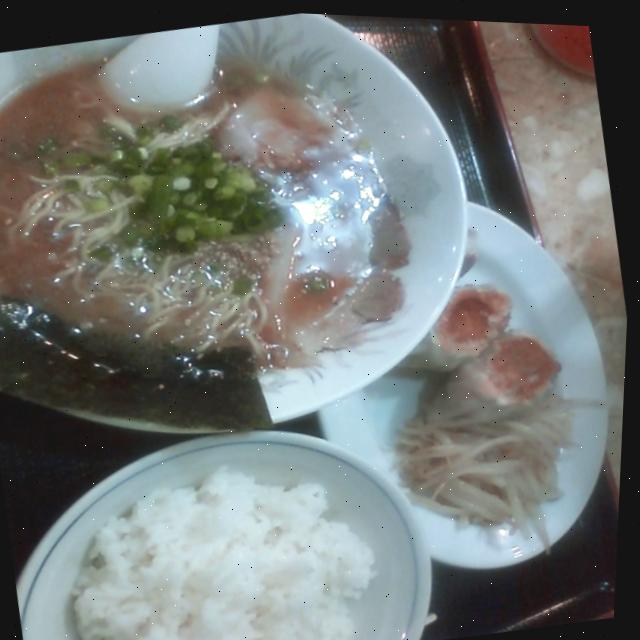带馅早点: (369, 226, 594, 451)
米饭主食: (60, 437, 417, 640)
